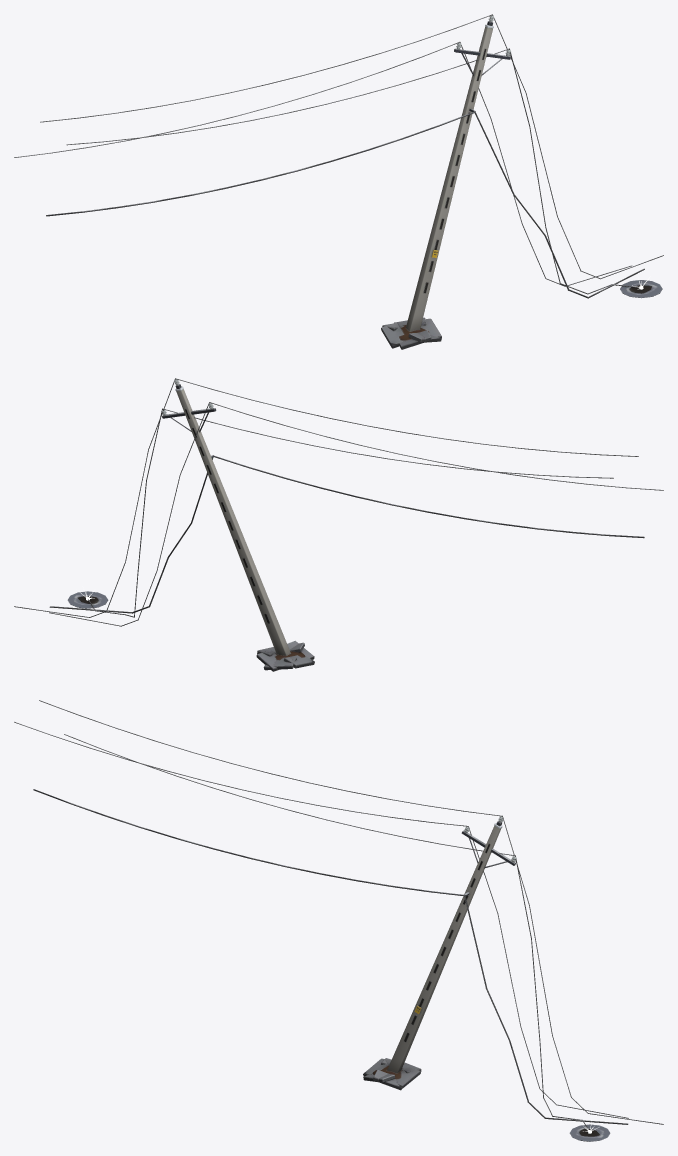
The model's file is pole_leaning.glb.
3 renders of one model, top to bottom at view 1: azimuth 30°, elevation 25°; view 2: azimuth 150°, elevation 25°; view 3: azimuth 330°, elevation 25°, orthographic. The views are drawn at different scales.
Parts seen in each view (by area): view 1: pole_leaning; view 2: pole_leaning; view 3: pole_leaning.
Boxes of the visible parts, x1=… form: pole_leaning: x1=14, y1=14, x2=663, y2=349; pole_leaning: x1=14, y1=378, x2=663, y2=671; pole_leaning: x1=14, y1=700, x2=663, y2=1141.
Bounding box in the file's own units: 21.55 × 9.51 × 2.26.
Materials: 2 (1 with a texture image).
